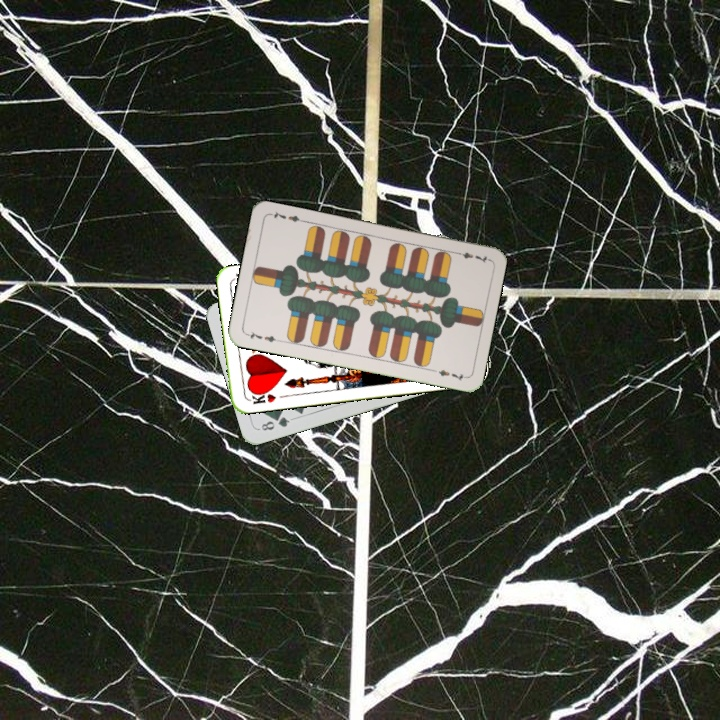E7: (242, 327, 282, 345), (451, 248, 491, 266)
G8: (257, 412, 292, 433)
HK: (247, 386, 278, 407)
